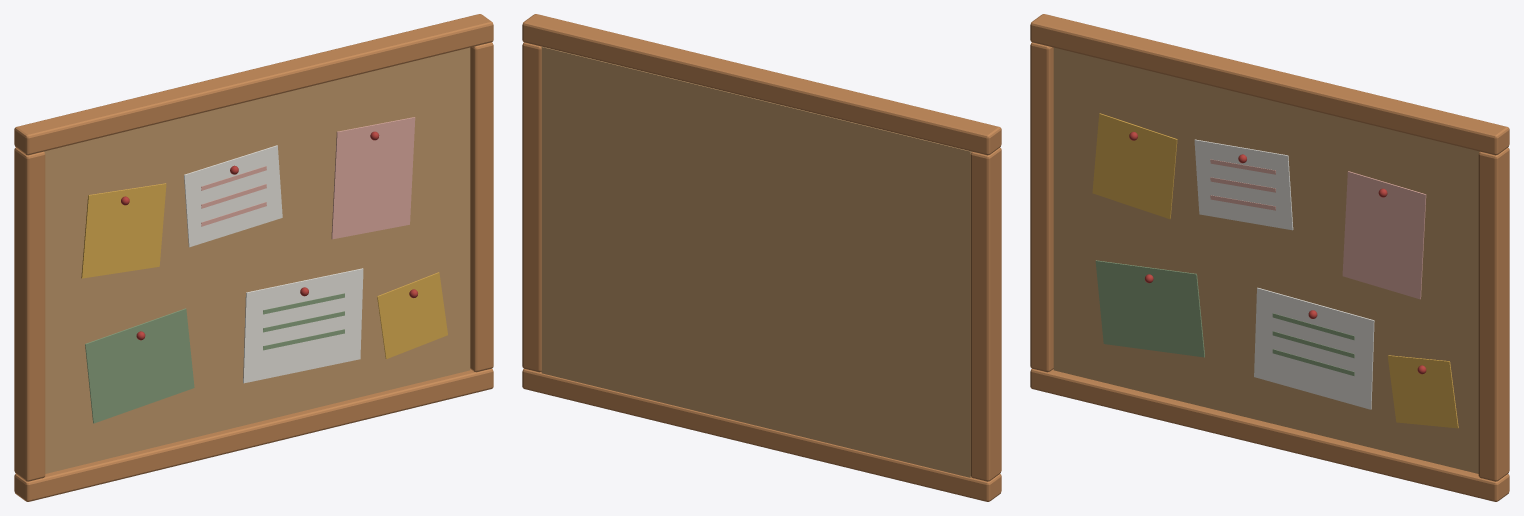
File: hh_cat_cork_board.glb
3 views of the same model, side by side, from view 1: azimuth 30°, elevation 25°; view 2: azimuth 150°, elevation 25°; view 3: azimuth 330°, elevation 25° (orthographic).
Visible parts, largest first — view 1: cork, frame.002, frame, frame.001, note.004, note.002, note.003, frame.003, note, note.001, note.005; view 2: cork, frame.002, frame.001, frame, frame.003; view 3: cork, frame.002, frame, frame.003, note.004, note.002, note.003, frame.001, note, note.001, note.005.
Part boxes in pixels (bbox=[...]): cork: bbox=[44, 47, 470, 473]; frame.002: bbox=[14, 14, 493, 155]; frame: bbox=[14, 368, 493, 501]; frame.001: bbox=[14, 147, 45, 481]; note.004: bbox=[243, 268, 363, 383]; note.002: bbox=[331, 117, 415, 239]; note.003: bbox=[85, 308, 194, 423]; frame.003: bbox=[470, 42, 493, 372]; note: bbox=[81, 183, 166, 278]; note.001: bbox=[184, 145, 282, 247]; note.005: bbox=[377, 272, 447, 358]; cork: bbox=[541, 46, 971, 477]; frame.002: bbox=[522, 14, 1001, 155]; frame.001: bbox=[970, 147, 1001, 481]; frame: bbox=[522, 368, 1001, 501]; frame.003: bbox=[522, 42, 541, 372]; cork: bbox=[1053, 47, 1479, 473]; frame.002: bbox=[1030, 14, 1509, 155]; frame: bbox=[1030, 368, 1509, 501]; frame.003: bbox=[1478, 147, 1509, 481]; note.004: bbox=[1254, 287, 1374, 409]; note.002: bbox=[1342, 171, 1426, 299]; note.003: bbox=[1095, 260, 1204, 357]; frame.001: bbox=[1030, 42, 1053, 372]; note: bbox=[1092, 113, 1177, 219]; note.001: bbox=[1194, 139, 1293, 230]; note.005: bbox=[1387, 355, 1458, 428].
Bounding box in the file's own units: 0.6 × 0.45 × 0.03.
